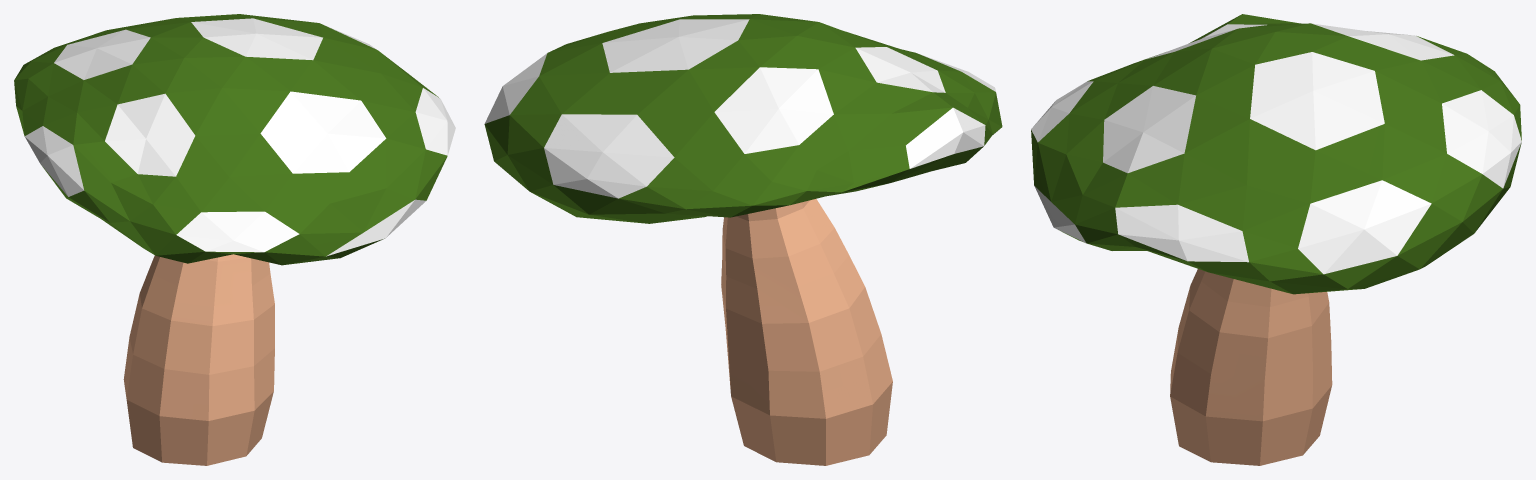
File: shroom_green.glb
The picture shows the model from 3 angles, left to right: view 1: azimuth 30°, elevation 25°; view 2: azimuth 150°, elevation 25°; view 3: azimuth 270°, elevation 25°; orthographic projection. The views are drawn at different scales.
Parts seen in each view (by area): view 1: PP_Fly_Agaric_04; view 2: PP_Fly_Agaric_04; view 3: PP_Fly_Agaric_04.
Boxes of the visible parts, x1,y1,x2,y2 form: PP_Fly_Agaric_04: [14, 14, 455, 465]; PP_Fly_Agaric_04: [484, 14, 1002, 465]; PP_Fly_Agaric_04: [1031, 14, 1521, 465].
Size of the model in its own units: 0.5028 by 0.4541 by 0.4992.
Materials: 1 (1 with a texture image).
